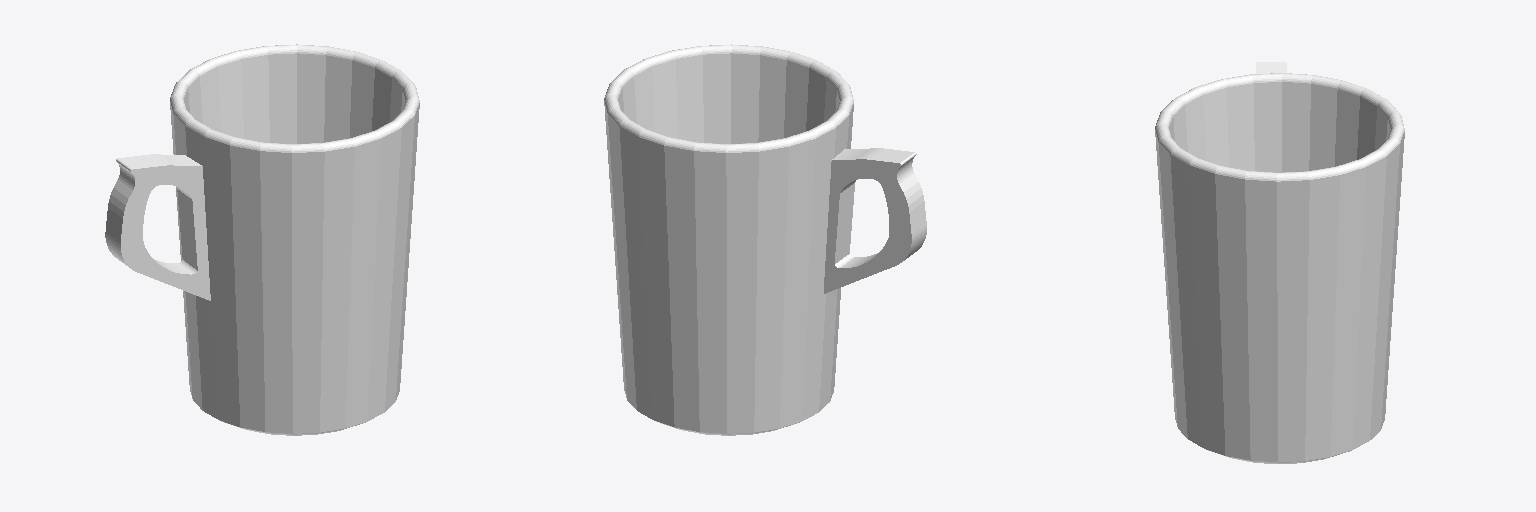
3 views of the same model, side by side, from view 1: azimuth 30°, elevation 25°; view 2: azimuth 150°, elevation 25°; view 3: azimuth 270°, elevation 25° (orthographic).
Visible parts, largest first — view 1: SketchUp_ID3.032, SketchUp.003_ID25, SketchUp.004_ID31.001; view 2: SketchUp_ID3.032, SketchUp.003_ID25, SketchUp.004_ID31.001; view 3: SketchUp_ID3.032.
Boxes of the visible parts, <box> form: SketchUp_ID3.032: <box>170,44,419,435</box>; SketchUp.003_ID25: <box>105,154,210,300</box>; SketchUp.004_ID31.001: <box>154,186,197,274</box>; SketchUp_ID3.032: <box>604,44,853,435</box>; SketchUp.003_ID25: <box>824,148,926,293</box>; SketchUp.004_ID31.001: <box>835,180,877,267</box>; SketchUp_ID3.032: <box>1155,73,1404,463</box>.
Size of the model in its own units: 0.1506 by 0.1481 by 0.1109.